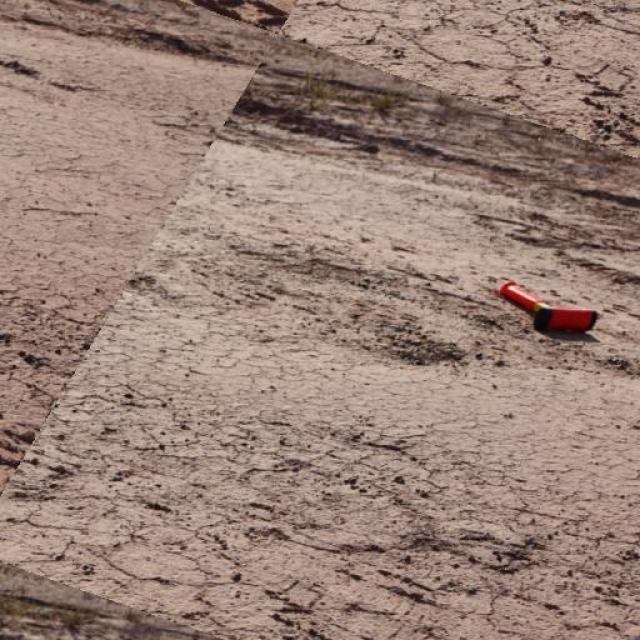mallet: (495, 278, 599, 334)
